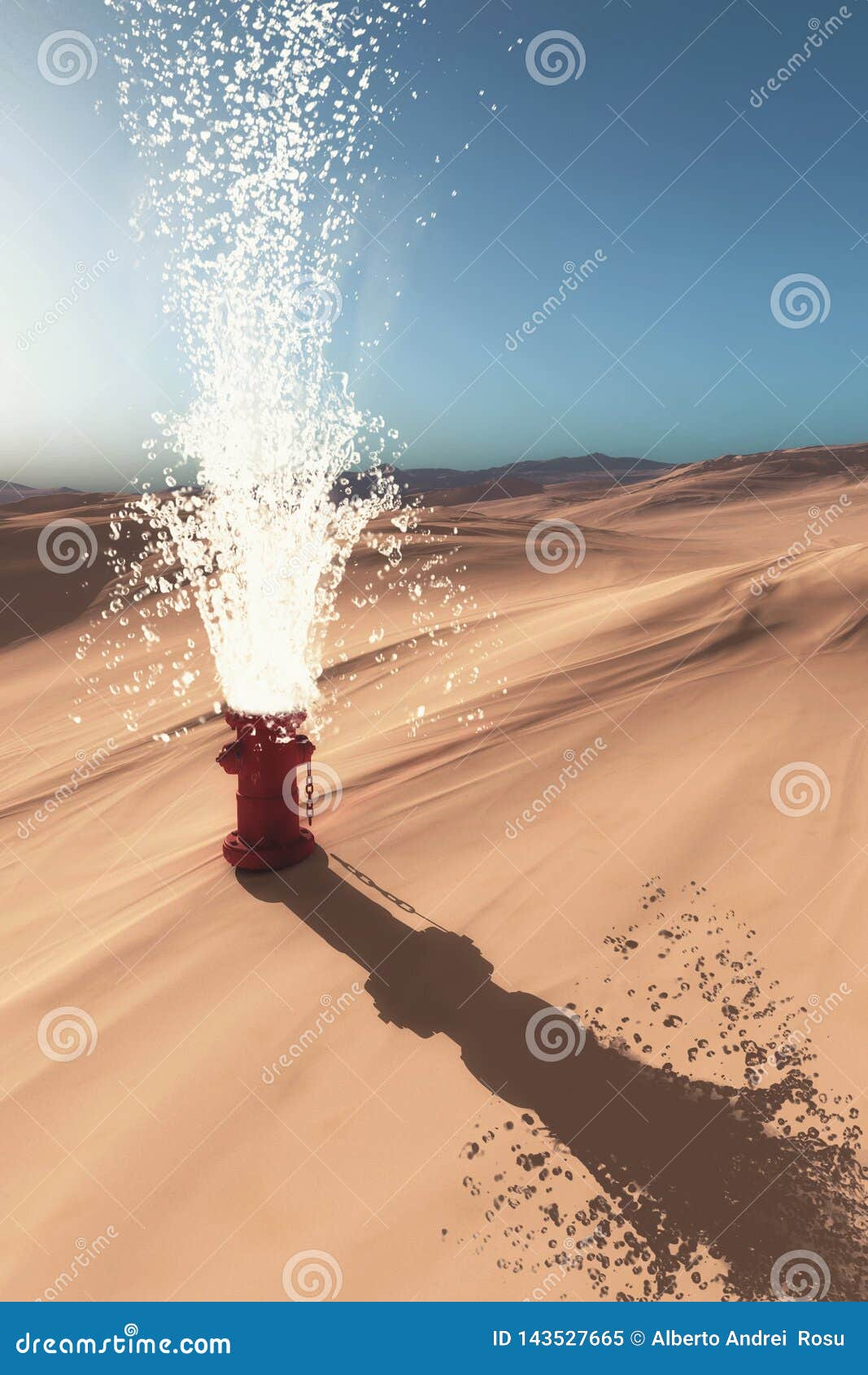FireHydrant: (195, 666, 359, 883)
